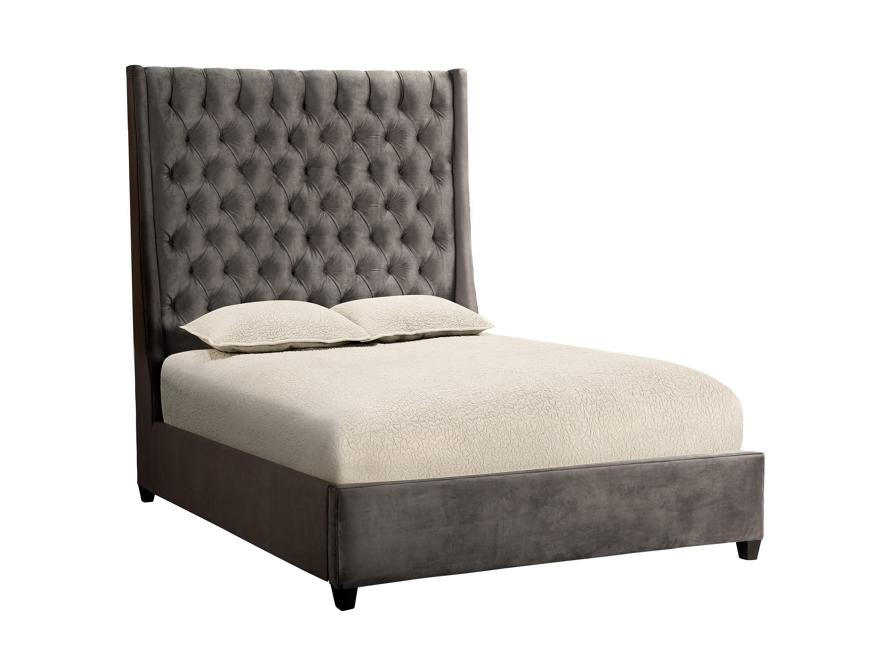bed: (93, 50, 804, 647)
